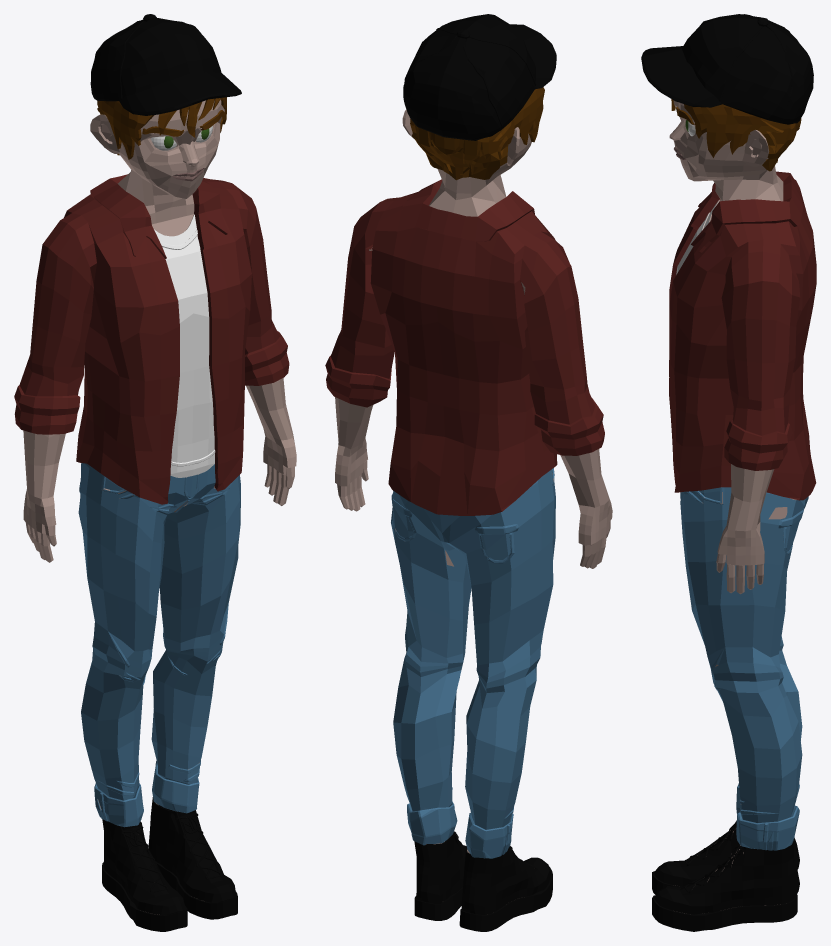
Rendered from Explorer_Colour.fbx.
3 renders of one model, left to right at view 1: azimuth 30°, elevation 25°; view 2: azimuth 150°, elevation 25°; view 3: azimuth 270°, elevation 25°, orthographic.
Parts seen in each view (by area): view 1: Tank; view 2: Tank; view 3: Tank.
Part boxes in pixels (x1=…): Tank: x1=14, y1=14, x2=296, y2=931; Tank: x1=325, y1=14, x2=612, y2=931; Tank: x1=641, y1=14, x2=816, y2=931.
Size of the model in its own units: 268 by 840 by 150.
